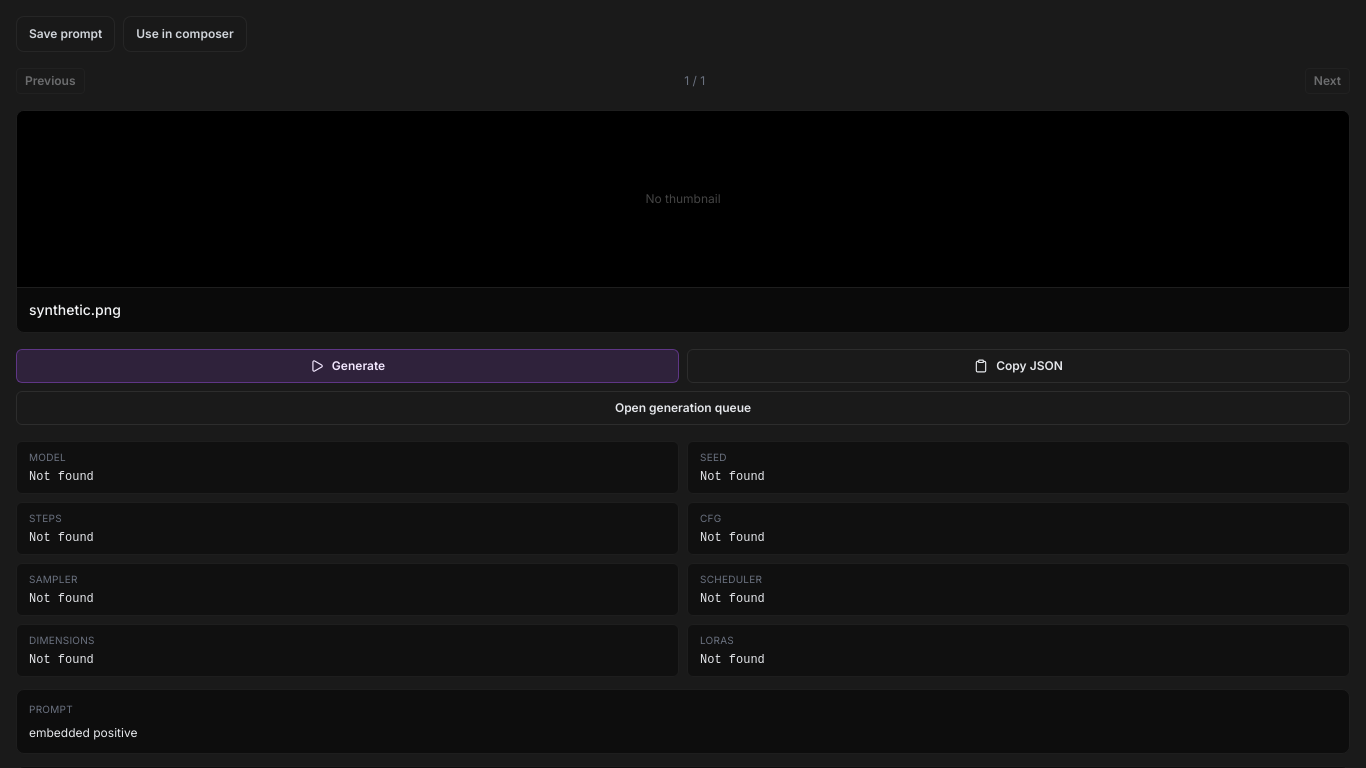
rejects an effective empty pair and reports shadow read failures without composing stale text
Click the button "Use in composer".
click(185, 34)  # box [123, 16, 247, 52]
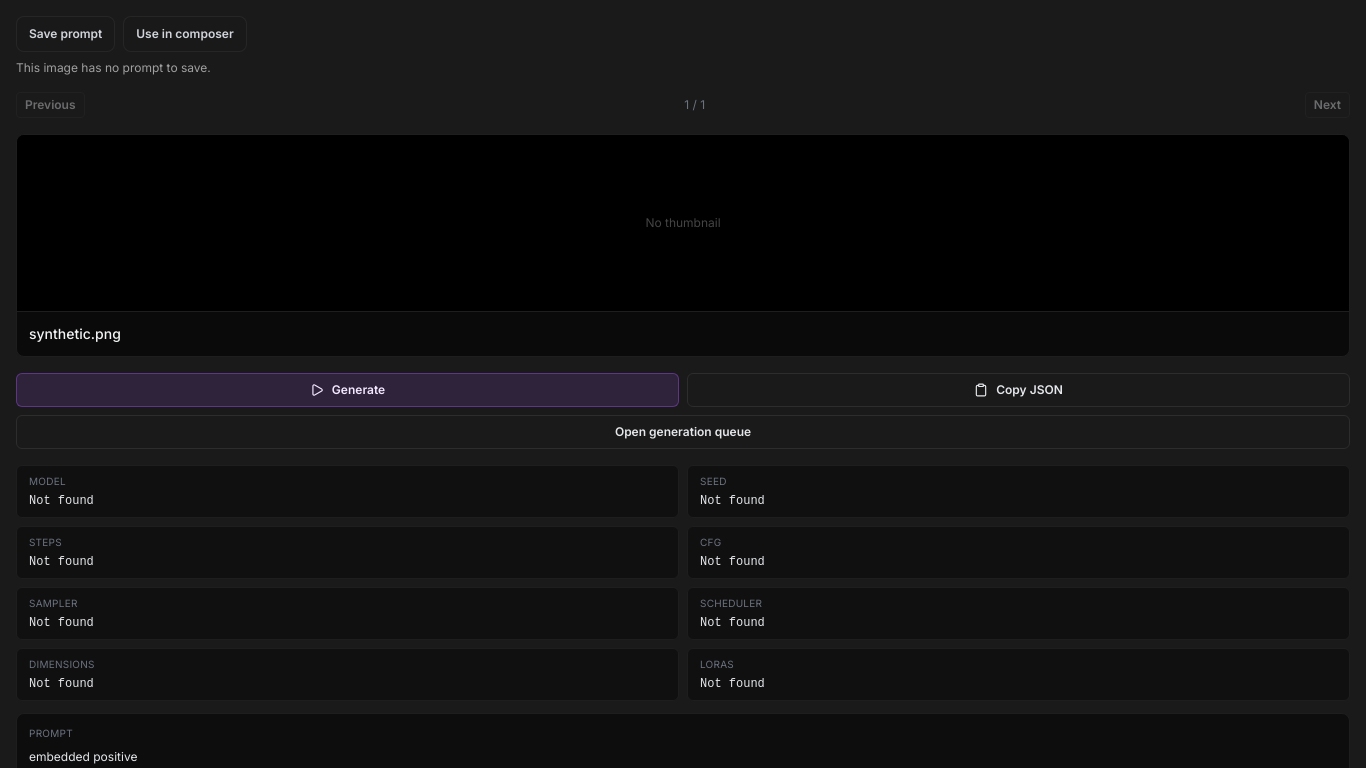
Check: the text "This image has no prompt to save." is shown, box [16, 60, 211, 75]
Click the button "Use in composer".
click(185, 34)  # box [123, 16, 247, 52]
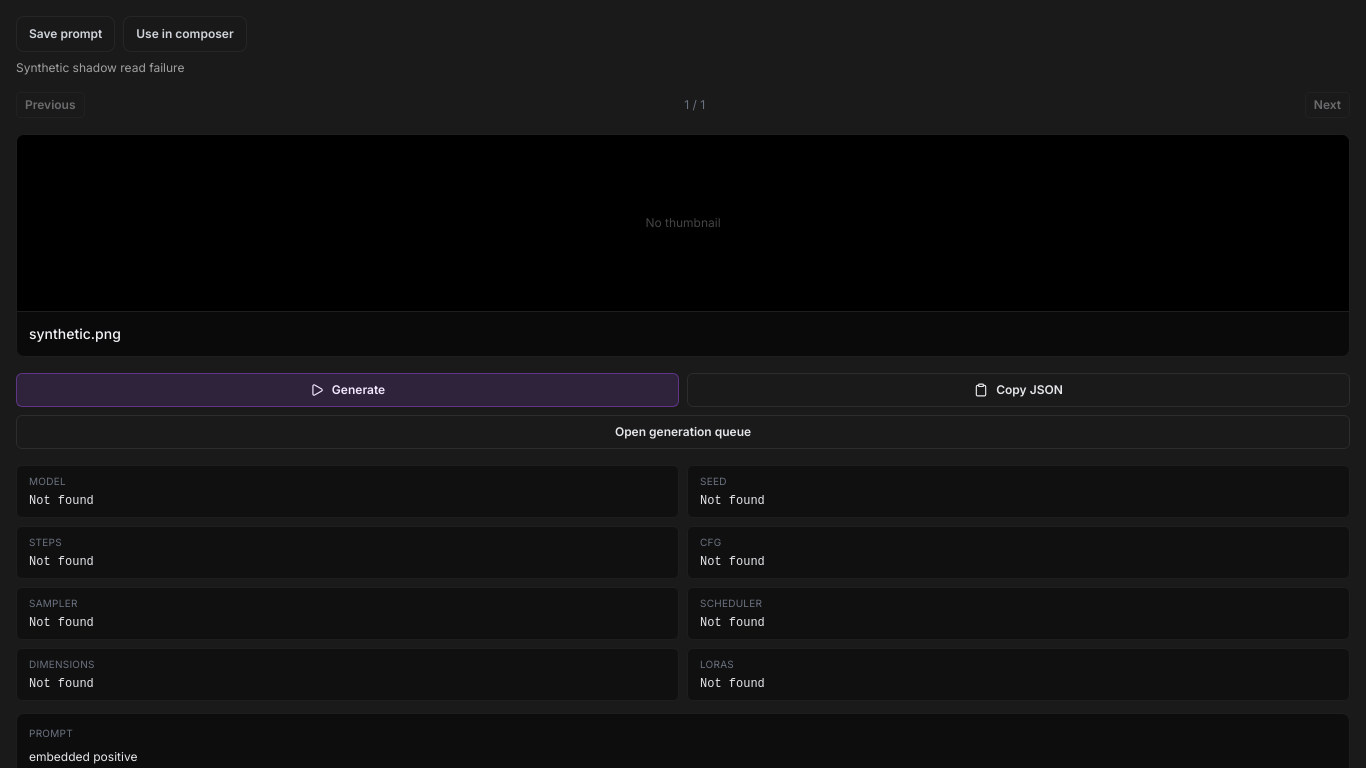
Check: the text "Synthetic shadow read failure" is shown, box [16, 60, 184, 75]
